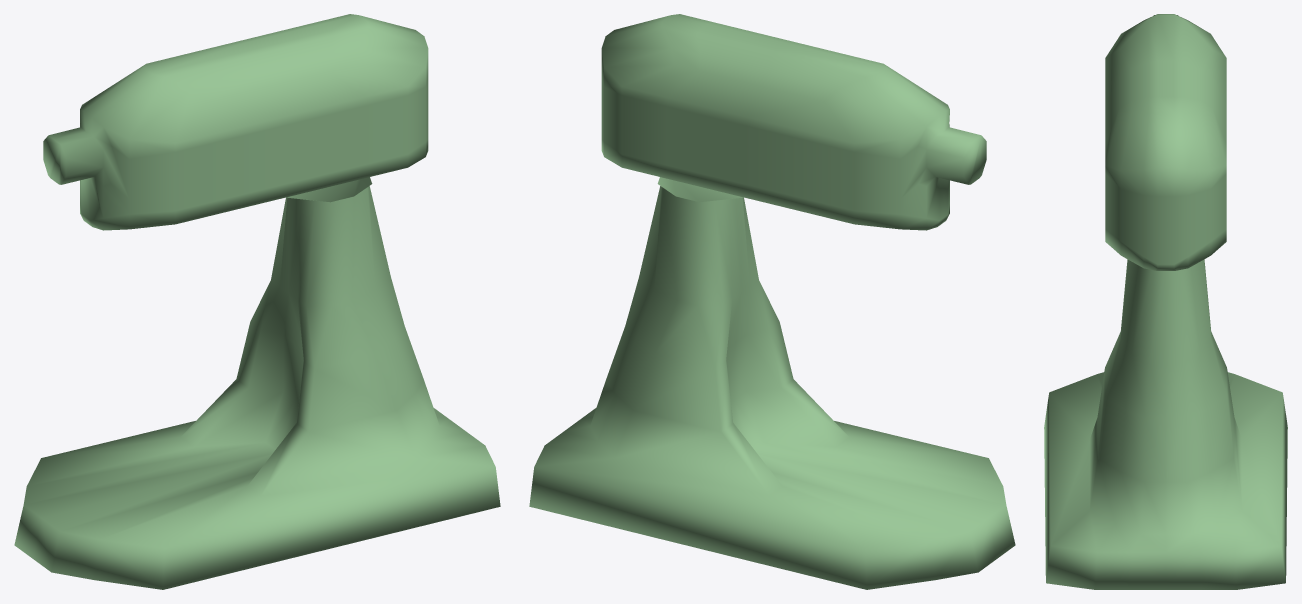
Rendered from StandMixerBase.fbx.
The picture shows the model from 3 angles, left to right: view 1: azimuth 30°, elevation 25°; view 2: azimuth 150°, elevation 25°; view 3: azimuth 270°, elevation 25°; orthographic projection. The views are drawn at different scales.
Visible parts, largest first — view 1: MixerBase, MixerTop; view 2: MixerBase, MixerTop; view 3: MixerBase, MixerTop.
Part boxes in pixels (x1,y1,x2,y2): MixerBase: [14, 186, 500, 589]; MixerTop: [43, 14, 428, 230]; MixerBase: [529, 186, 1015, 589]; MixerTop: [601, 14, 986, 230]; MixerBase: [1044, 259, 1287, 589]; MixerTop: [1105, 14, 1226, 270].
Bounding box in the file's own units: 90.79 × 95.3 × 48.36.
